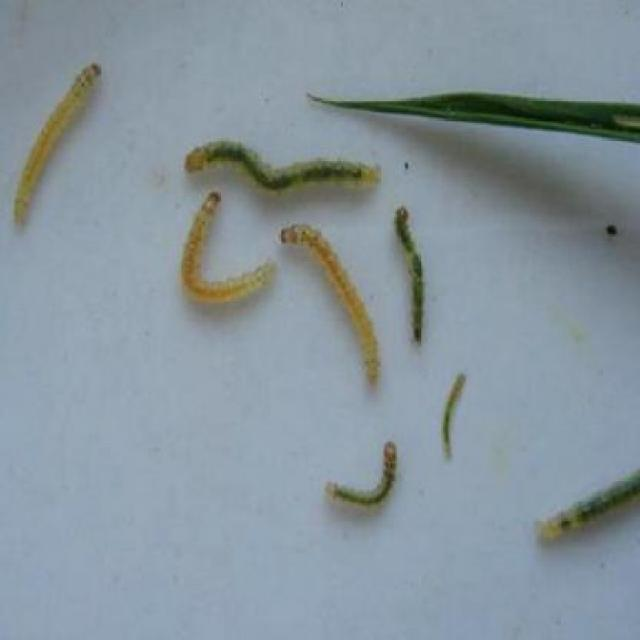leaf-folder: (269, 210, 386, 396), (175, 127, 397, 210), (15, 51, 96, 254), (174, 180, 274, 311), (371, 176, 446, 350), (538, 458, 640, 554), (326, 423, 411, 520), (434, 362, 481, 480)
